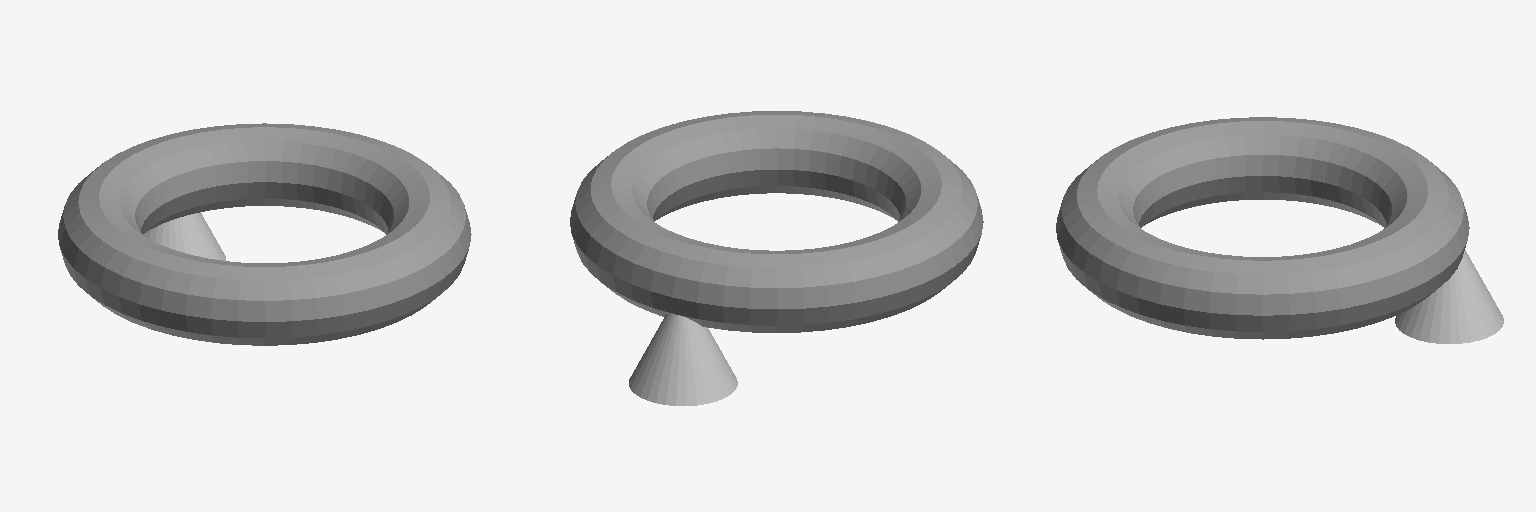
Rendered from drone.obj.
The picture shows the model from 3 angles: view 1: azimuth 30°, elevation 25°; view 2: azimuth 150°, elevation 25°; view 3: azimuth 270°, elevation 25°; orthographic projection.
Visible parts, largest first — view 1: Torus, Cone; view 2: Torus, Cone; view 3: Torus, Cone.
Boxes of the visible parts, x1=… form: Torus: x1=58, y1=123, x2=471, y2=345; Cone: x1=143, y1=212, x2=225, y2=260; Torus: x1=570, y1=111, x2=983, y2=332; Cone: x1=629, y1=314, x2=737, y2=405; Torus: x1=1056, y1=117, x2=1469, y2=339; Cone: x1=1395, y1=250, x2=1503, y2=343.
Bounding box in the file's own units: 0.8688 × 0.302 × 0.9414.